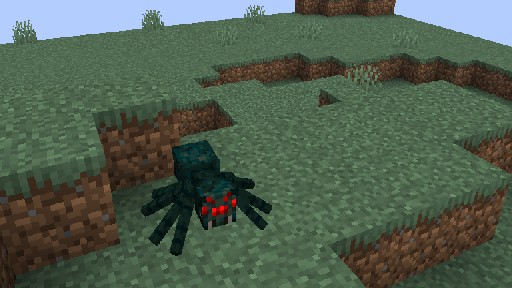cave_spider: (140, 139, 272, 255)
